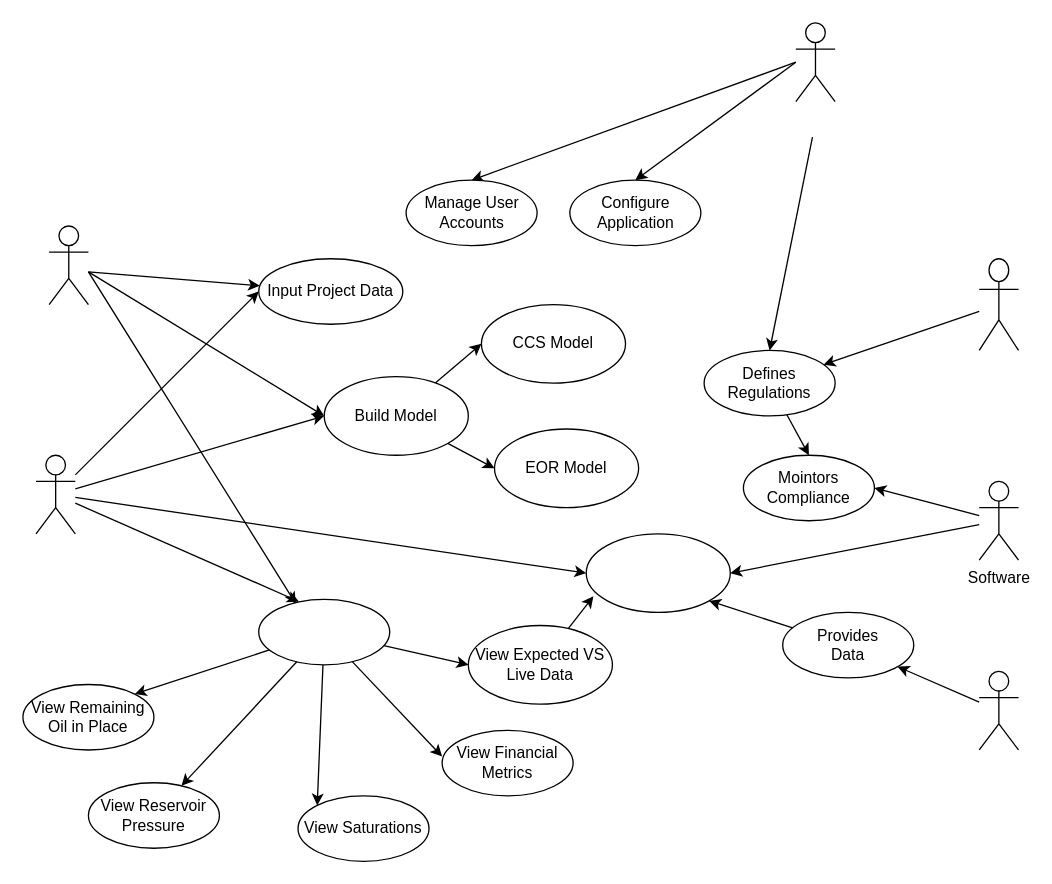
Image size: 1052x884. Some labels were removed from this diagram. Each missing label, with the box of its shape:
Admin: (795, 22, 835, 102)
AER: (978, 257, 1019, 350)
Engineer: (35, 454, 75, 534)
Geologist: (48, 225, 88, 305)
Monitor Model: (585, 533, 730, 612)
SCADA: (978, 670, 1019, 750)
View Data: (257, 598, 390, 665)
